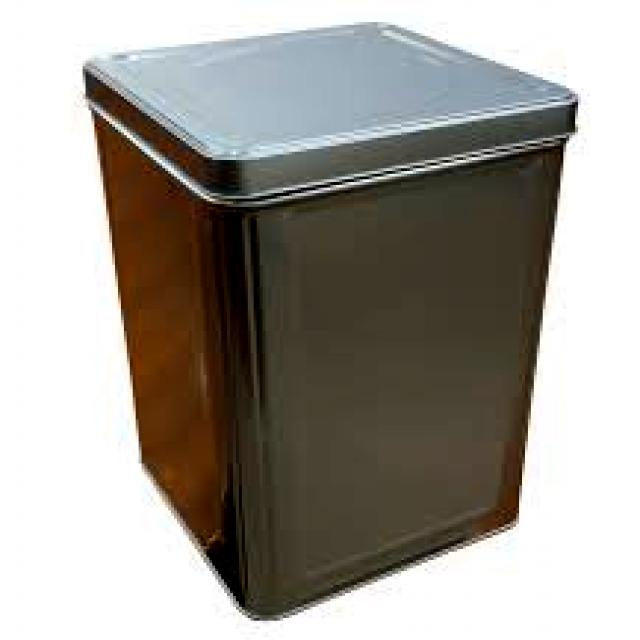Metal: (76, 7, 586, 635)
